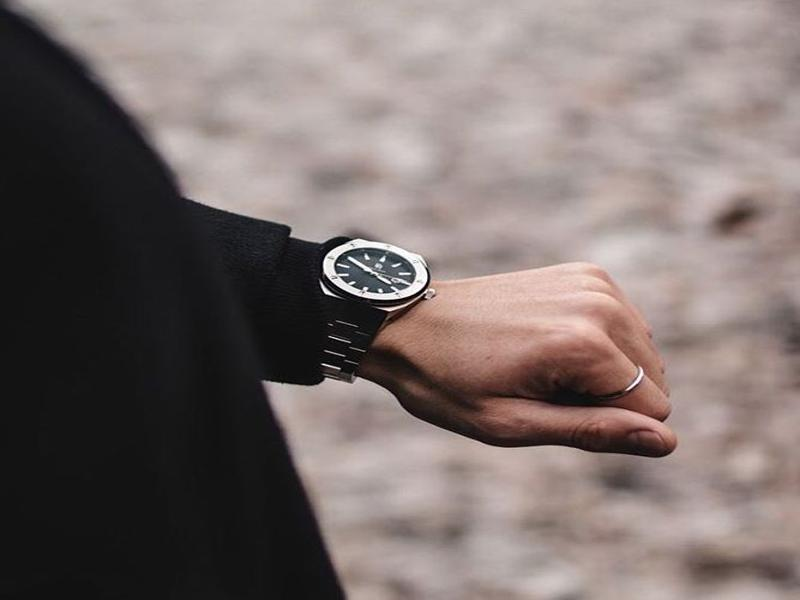watch: (316, 236, 437, 386)
